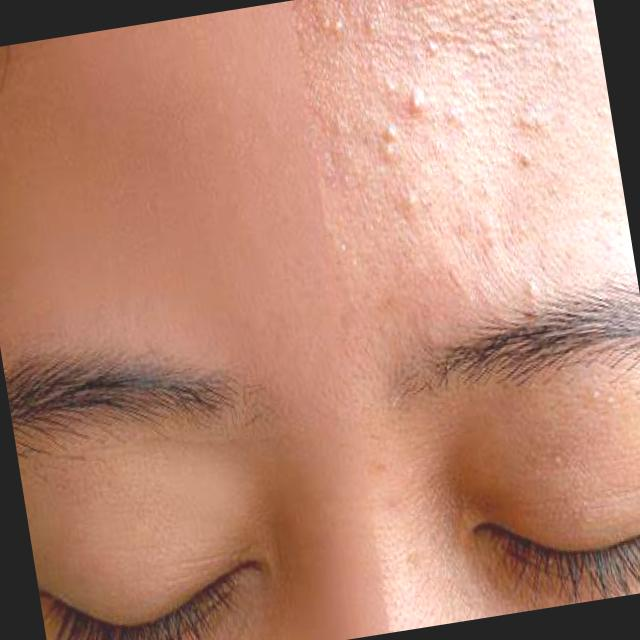fungal: (292, 0, 639, 337)
